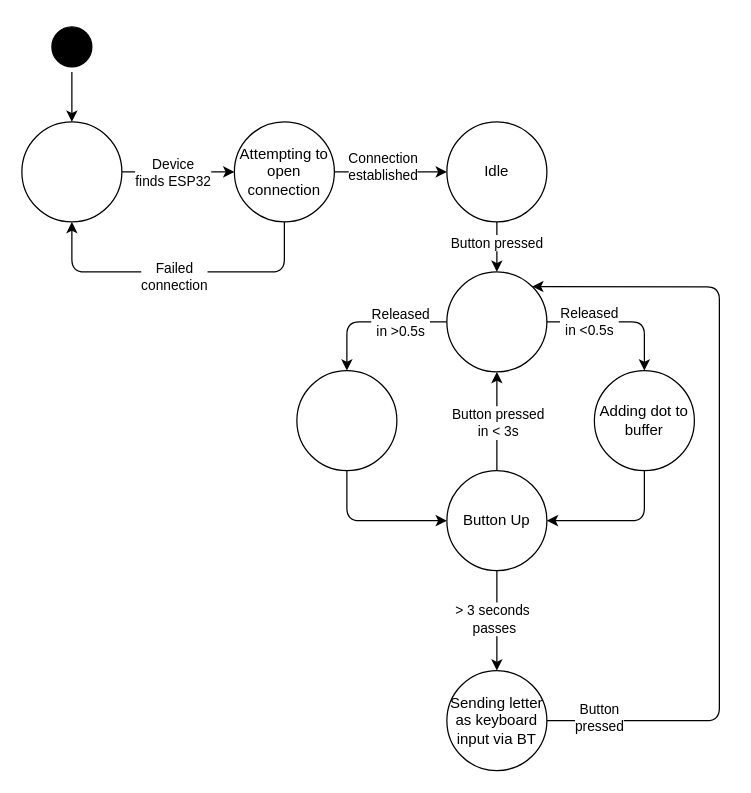
The diagram is 751 pixels wide and 793 high, and some of its shapes have lost their labels. The centre of each missing label's shape, as x and y in pixels:
"Adding dash to buffer" goes at (x=346, y=420).
"Advertising as bluetooth HID device" goes at (x=71, y=171).
"Button Down" goes at (x=496, y=321).
